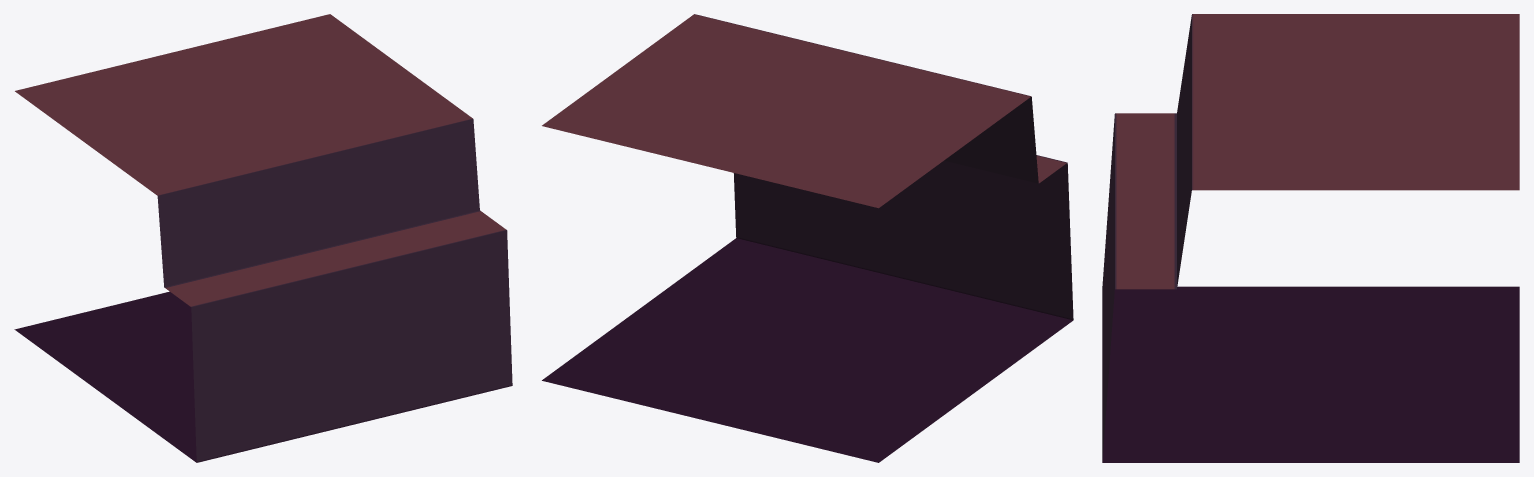
File: roofStraight_MESH.fbx
The picture shows the model from 3 angles, left to right: view 1: azimuth 30°, elevation 25°; view 2: azimuth 150°, elevation 25°; view 3: azimuth 270°, elevation 25°; orthographic projection. The views are drawn at different scales.
Parts seen in each view (by area): view 1: roofStraight_MESH; view 2: roofStraight_MESH; view 3: roofStraight_MESH.
Boxes of the visible parts, x1,y1,x2,y2 form: roofStraight_MESH: (14,14,512,462); roofStraight_MESH: (542,14,1073,462); roofStraight_MESH: (1102,14,1519,462).
Size of the model in its own units: 1 by 0.7214 by 1.
